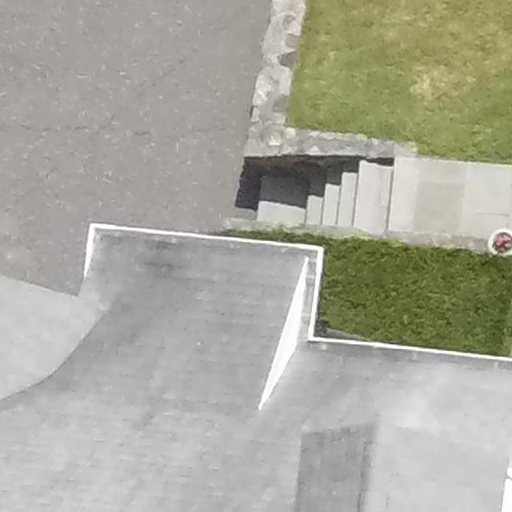container: (483, 223, 512, 260)
flower pot: (485, 224, 512, 256)
